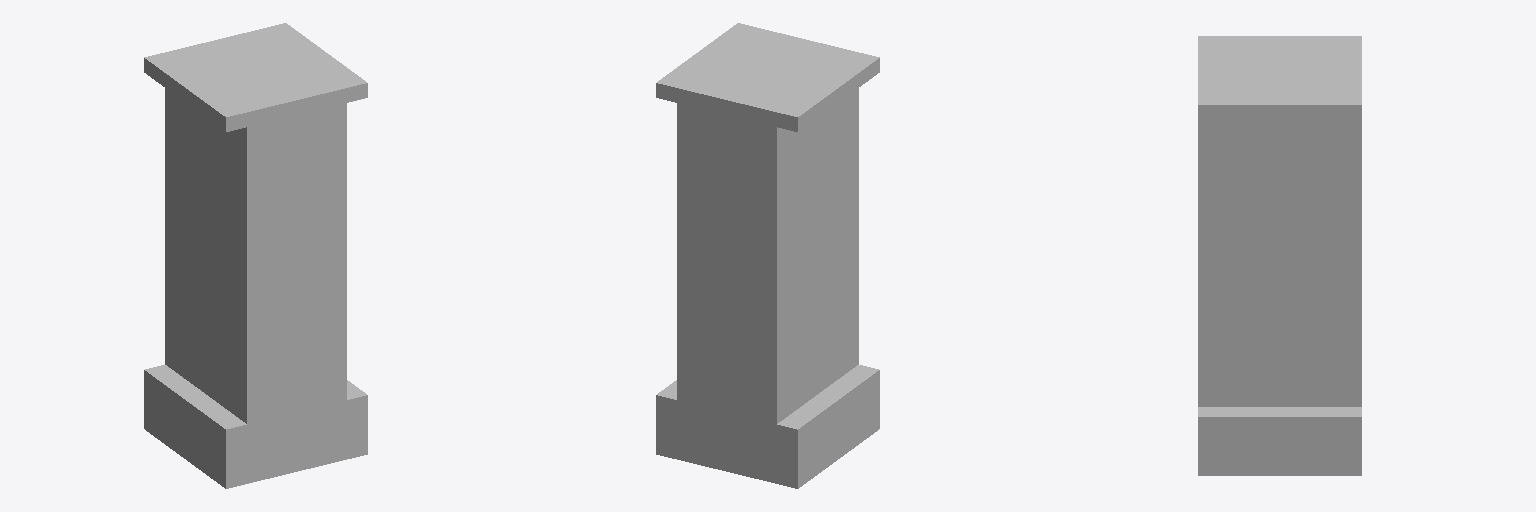
File: Endless light Wall models v3.obj
3 renders of one model, left to right at view 1: azimuth 30°, elevation 25°; view 2: azimuth 150°, elevation 25°; view 3: azimuth 270°, elevation 25°, orthographic.
Visible parts, largest first — view 1: Wall_old_Cube.001, Wall_Cube.002; view 2: Wall_old_Cube.001, Tile_Cube; view 3: Wall_old_Cube.001, Tile_Cube.
Part boxes in pixels (x1,y1,x2,y2): Wall_old_Cube.001: (144, 23, 367, 488); Wall_Cube.002: (261, 185, 332, 453); Wall_old_Cube.001: (656, 23, 879, 488); Tile_Cube: (656, 425, 797, 488); Wall_old_Cube.001: (1198, 36, 1361, 446); Tile_Cube: (1198, 447, 1361, 475).
Bounding box in the file's own units: 1 × 2.5 × 1.